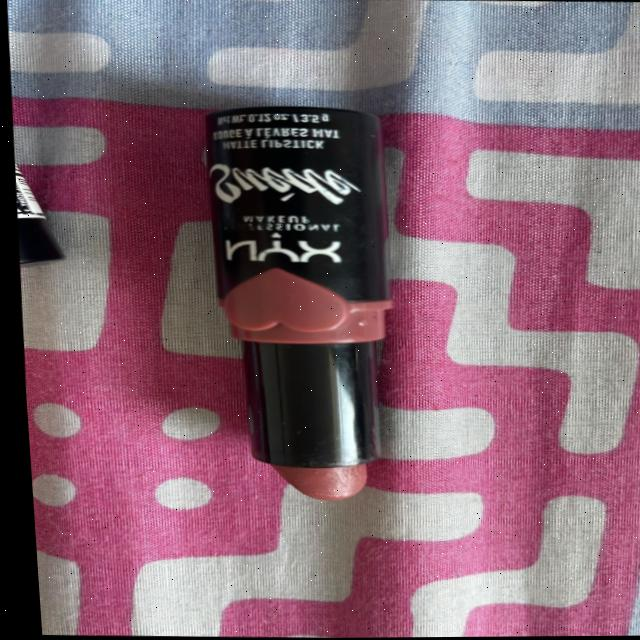lip stick: (195, 92, 414, 510)
